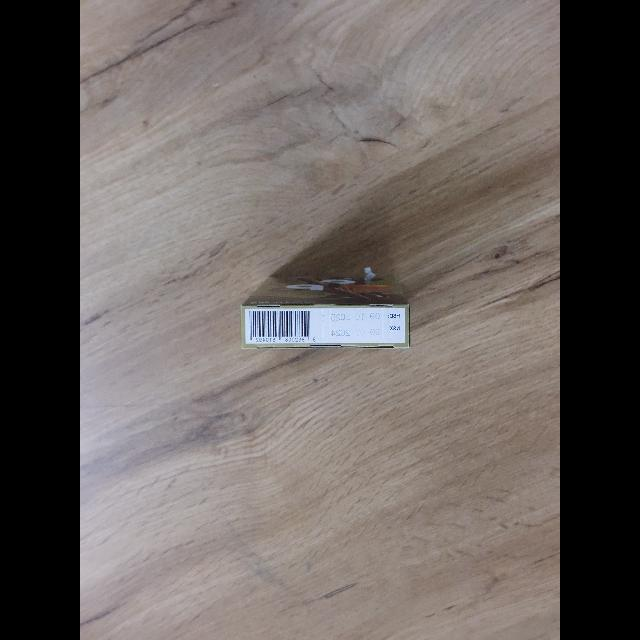banh_toppo_socola: (241, 268, 410, 349)
